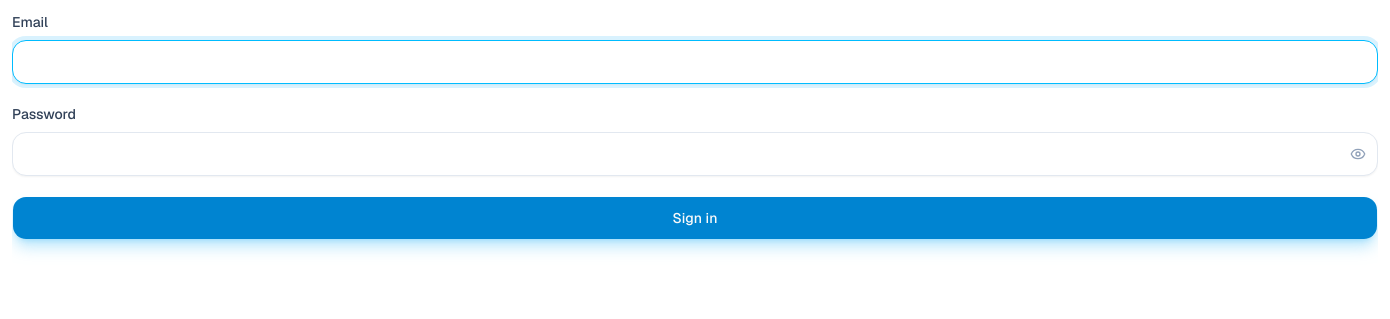
LoginForm › shows an error for an invalid email after submit
The image size is (1390, 319).
Type "not-an-email" into the field labelled "Email" at (695, 62), box [12, 40, 1378, 84]
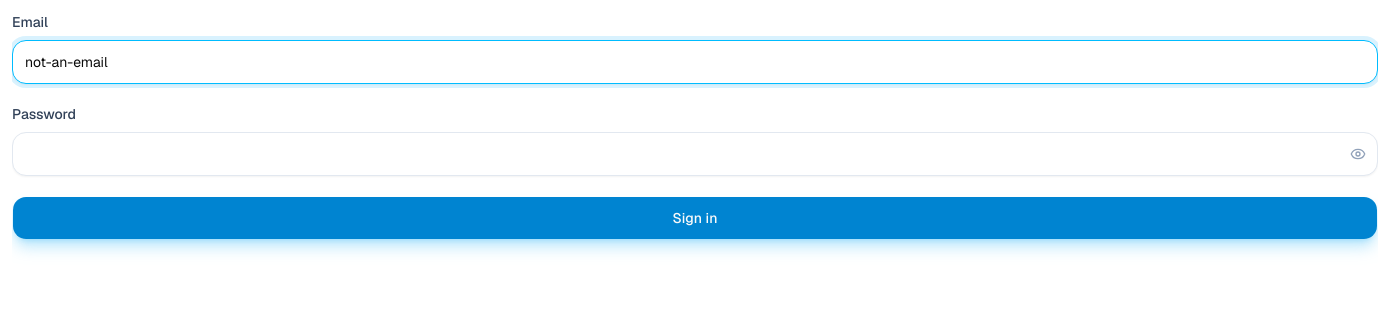
Click the button "Sign in" at (695, 218), box [12, 196, 1378, 240]
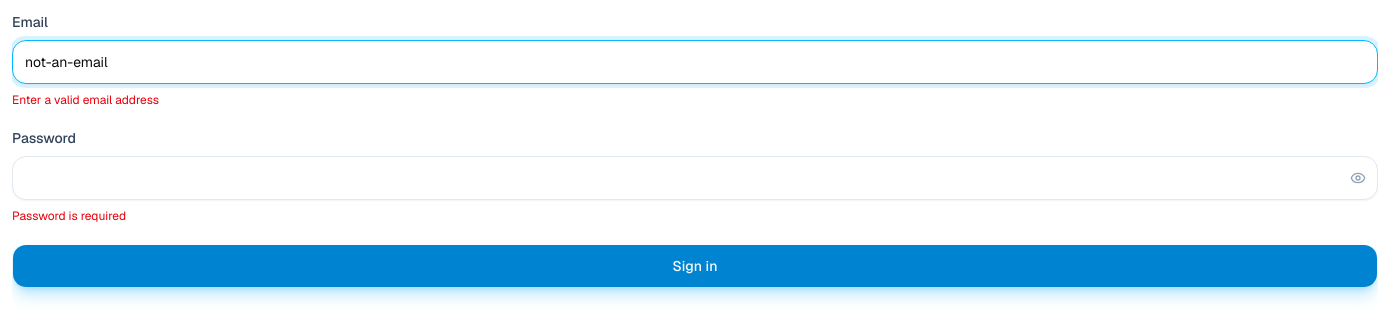
Check: the text "Enter a valid email address" is shown, box [12, 92, 159, 108]
